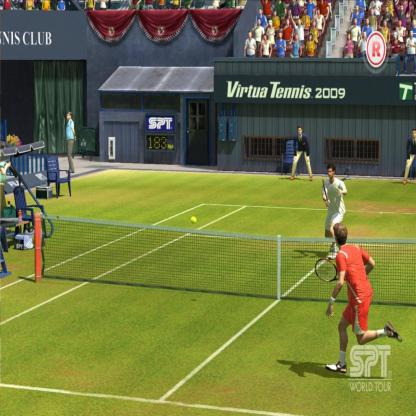face: (328, 170, 334, 178), (413, 131, 416, 138), (371, 10, 375, 15), (299, 130, 302, 136), (68, 114, 71, 120), (289, 11, 292, 17), (249, 33, 252, 38), (275, 12, 278, 17), (299, 21, 302, 26), (314, 23, 317, 28), (317, 11, 320, 16), (364, 33, 367, 38), (411, 32, 414, 37), (385, 22, 388, 27), (367, 20, 370, 25), (355, 20, 358, 25), (357, 7, 360, 12), (387, 8, 390, 13), (401, 7, 404, 12), (280, 35, 283, 39), (264, 37, 267, 41), (260, 10, 263, 14), (287, 21, 290, 25), (310, 36, 313, 40), (348, 35, 351, 39), (414, 21, 416, 27), (399, 22, 402, 26), (296, 36, 298, 41), (259, 21, 261, 26)
